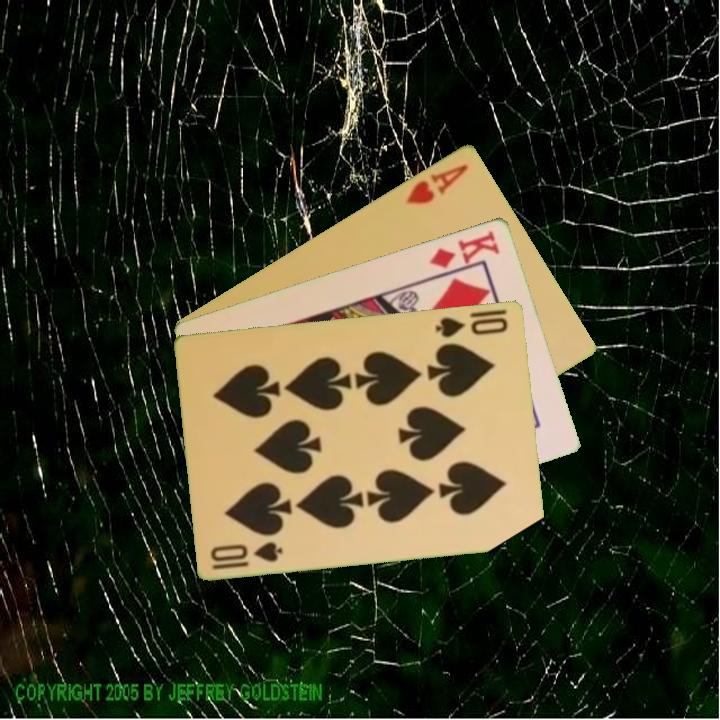10s: (207, 538, 286, 572), (432, 313, 511, 340)
Ah: (402, 159, 472, 207)
Kd: (426, 226, 503, 279)
